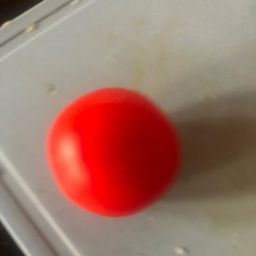Tomato: (30, 76, 202, 227)
